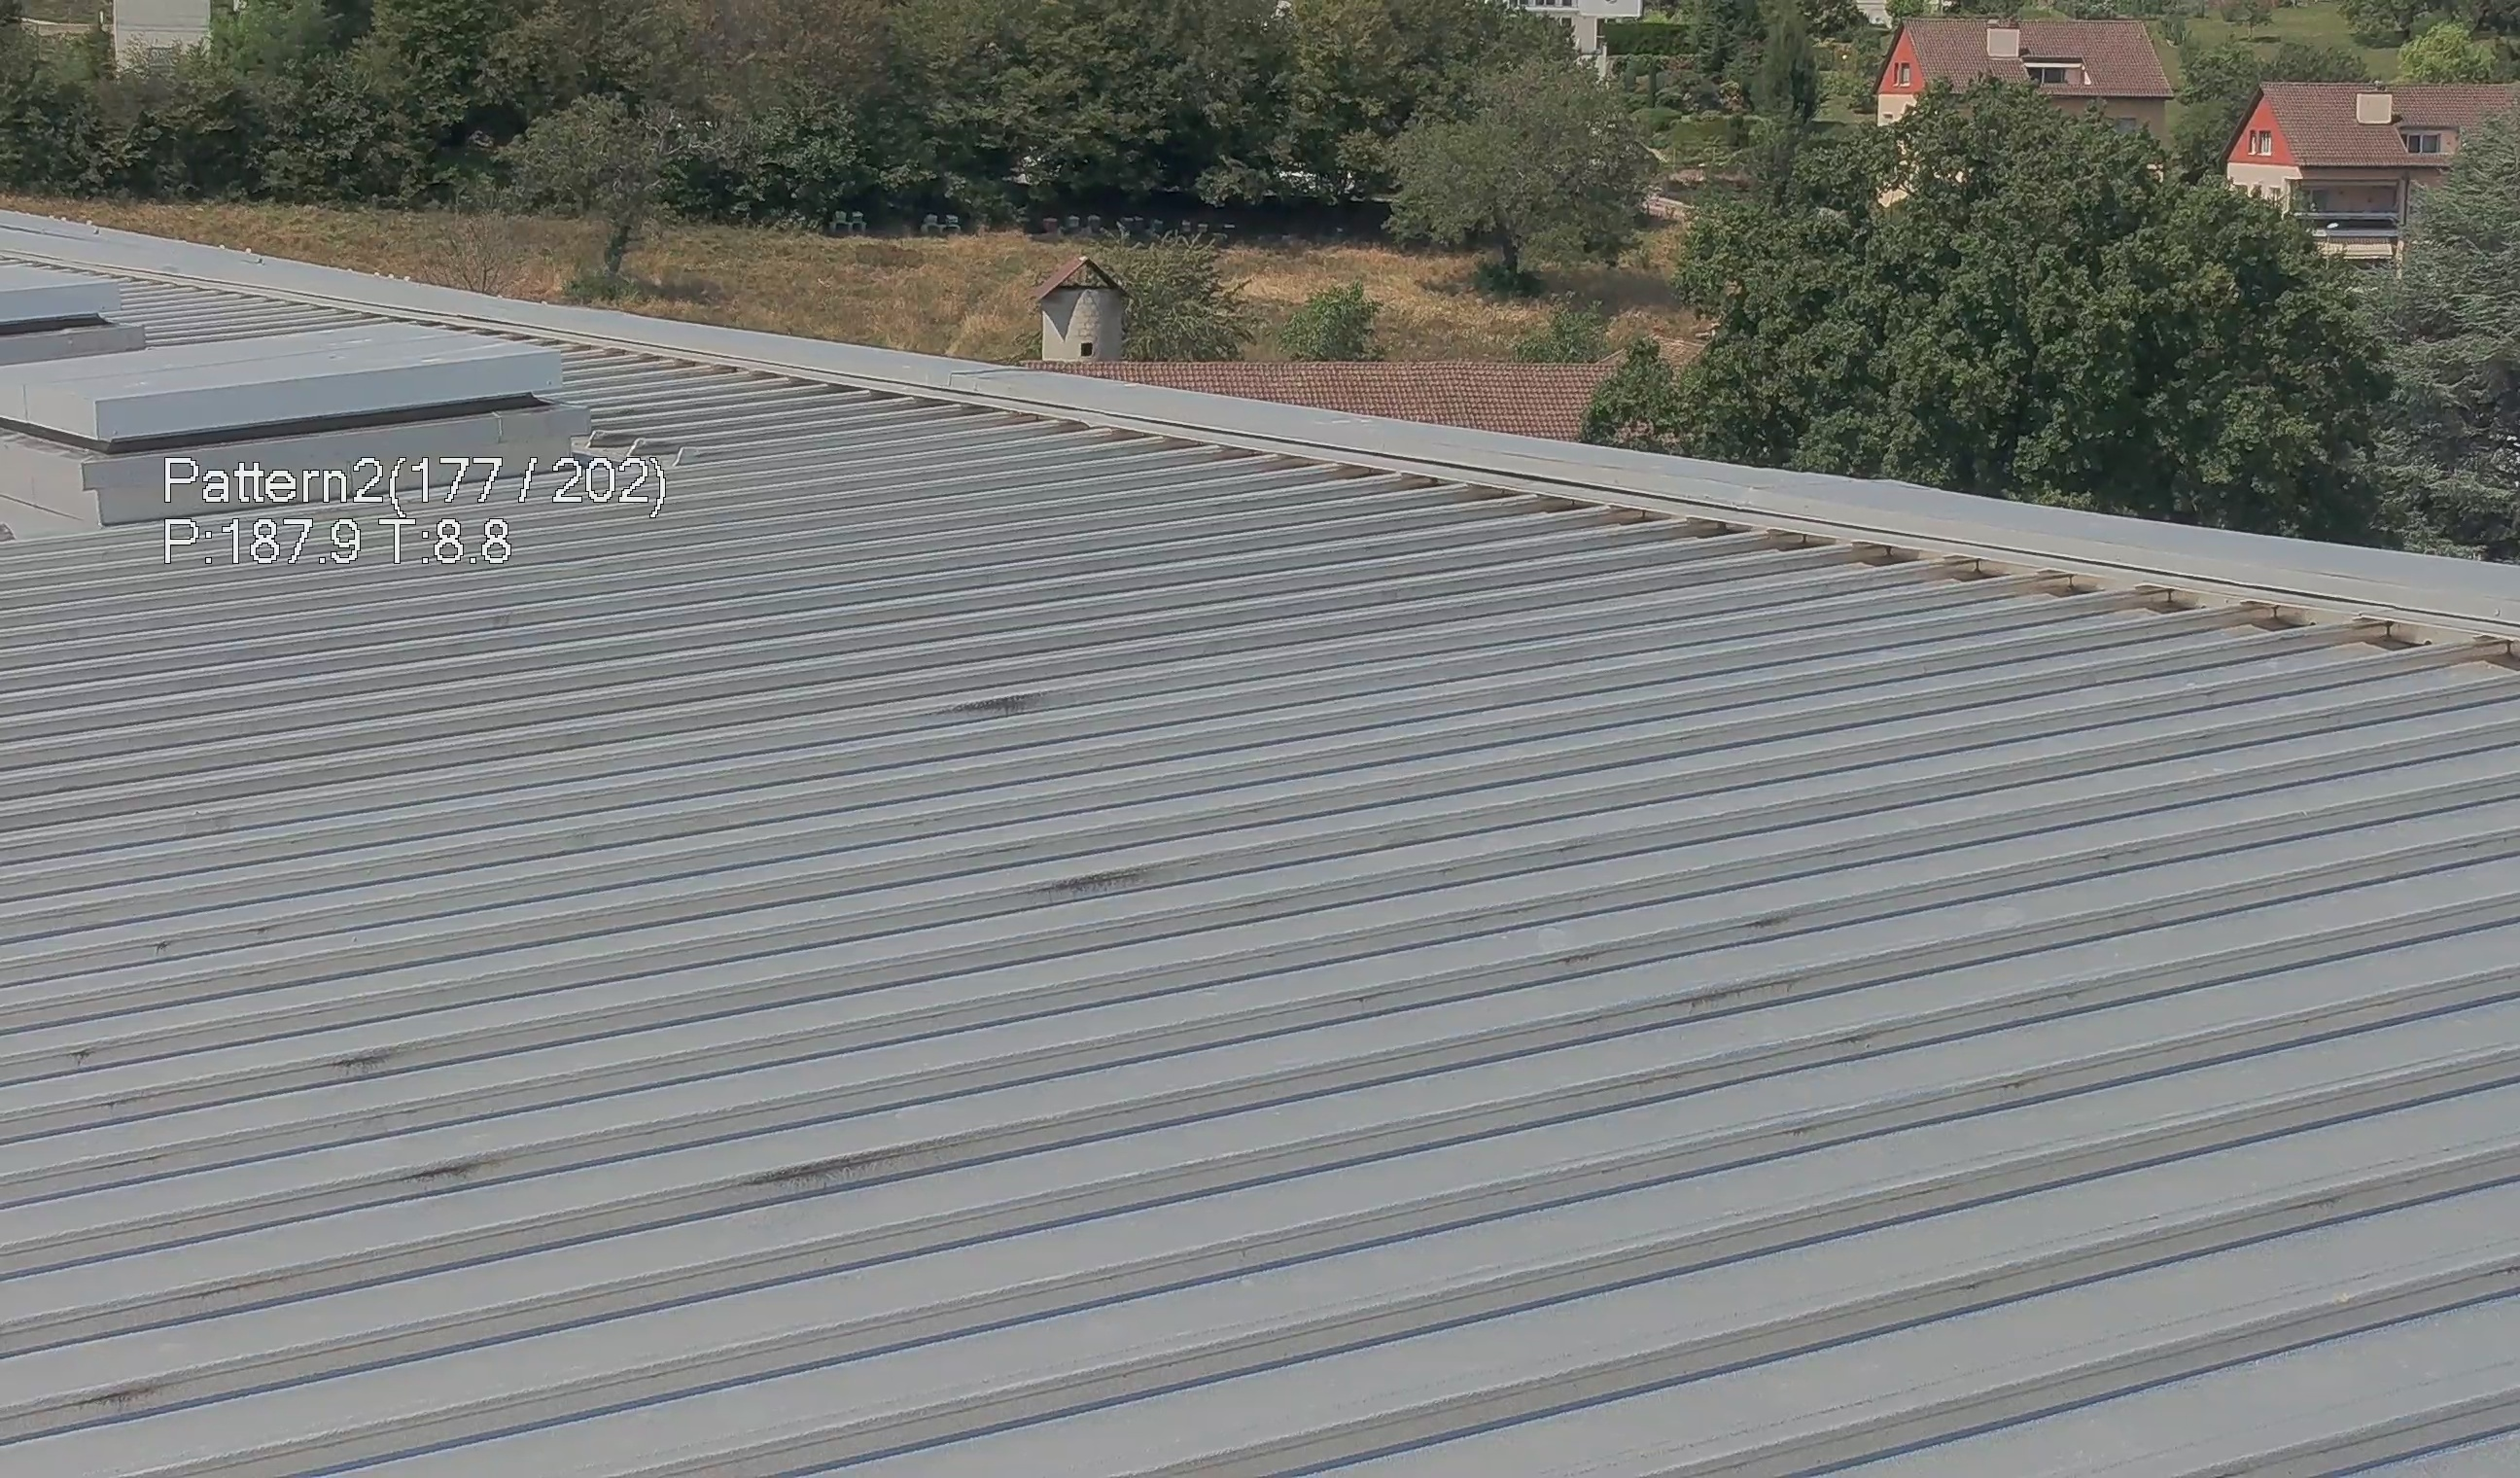Other: (1025, 236, 1154, 375)
